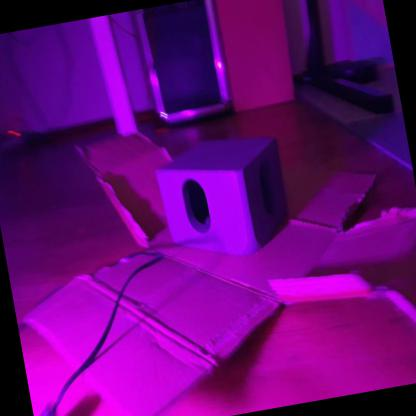CornerCasting: (152, 128, 295, 262)
